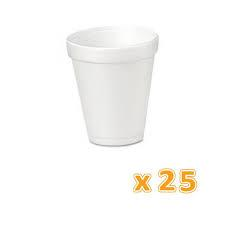Plastic cup: (64, 17, 164, 164)
